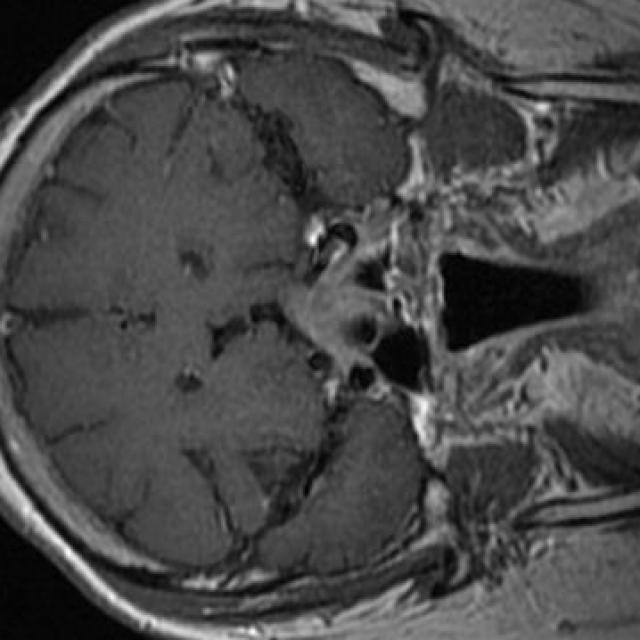pituitary: (282, 246, 389, 376)
